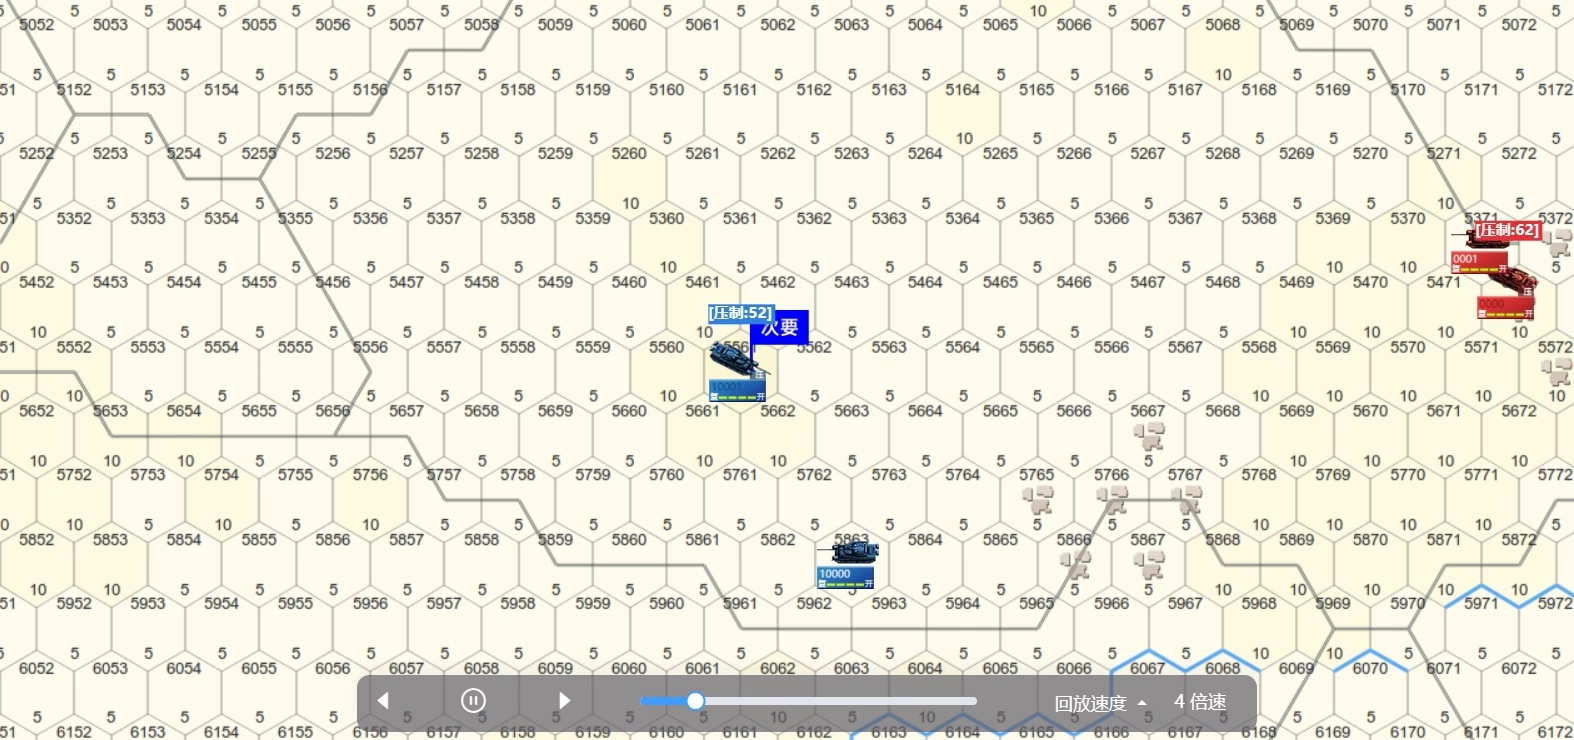blue_tank: (707, 337, 772, 401), (812, 547, 878, 590)
red_tank: (1456, 221, 1511, 274), (1484, 269, 1538, 316)
